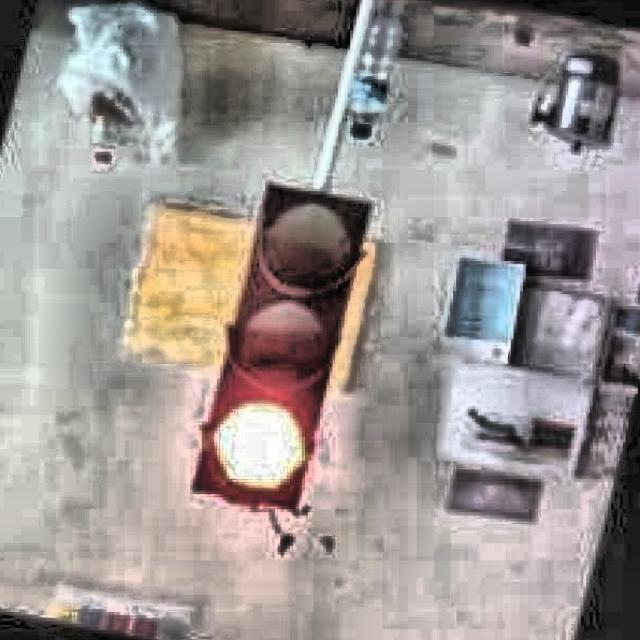red: (189, 179, 365, 501)
